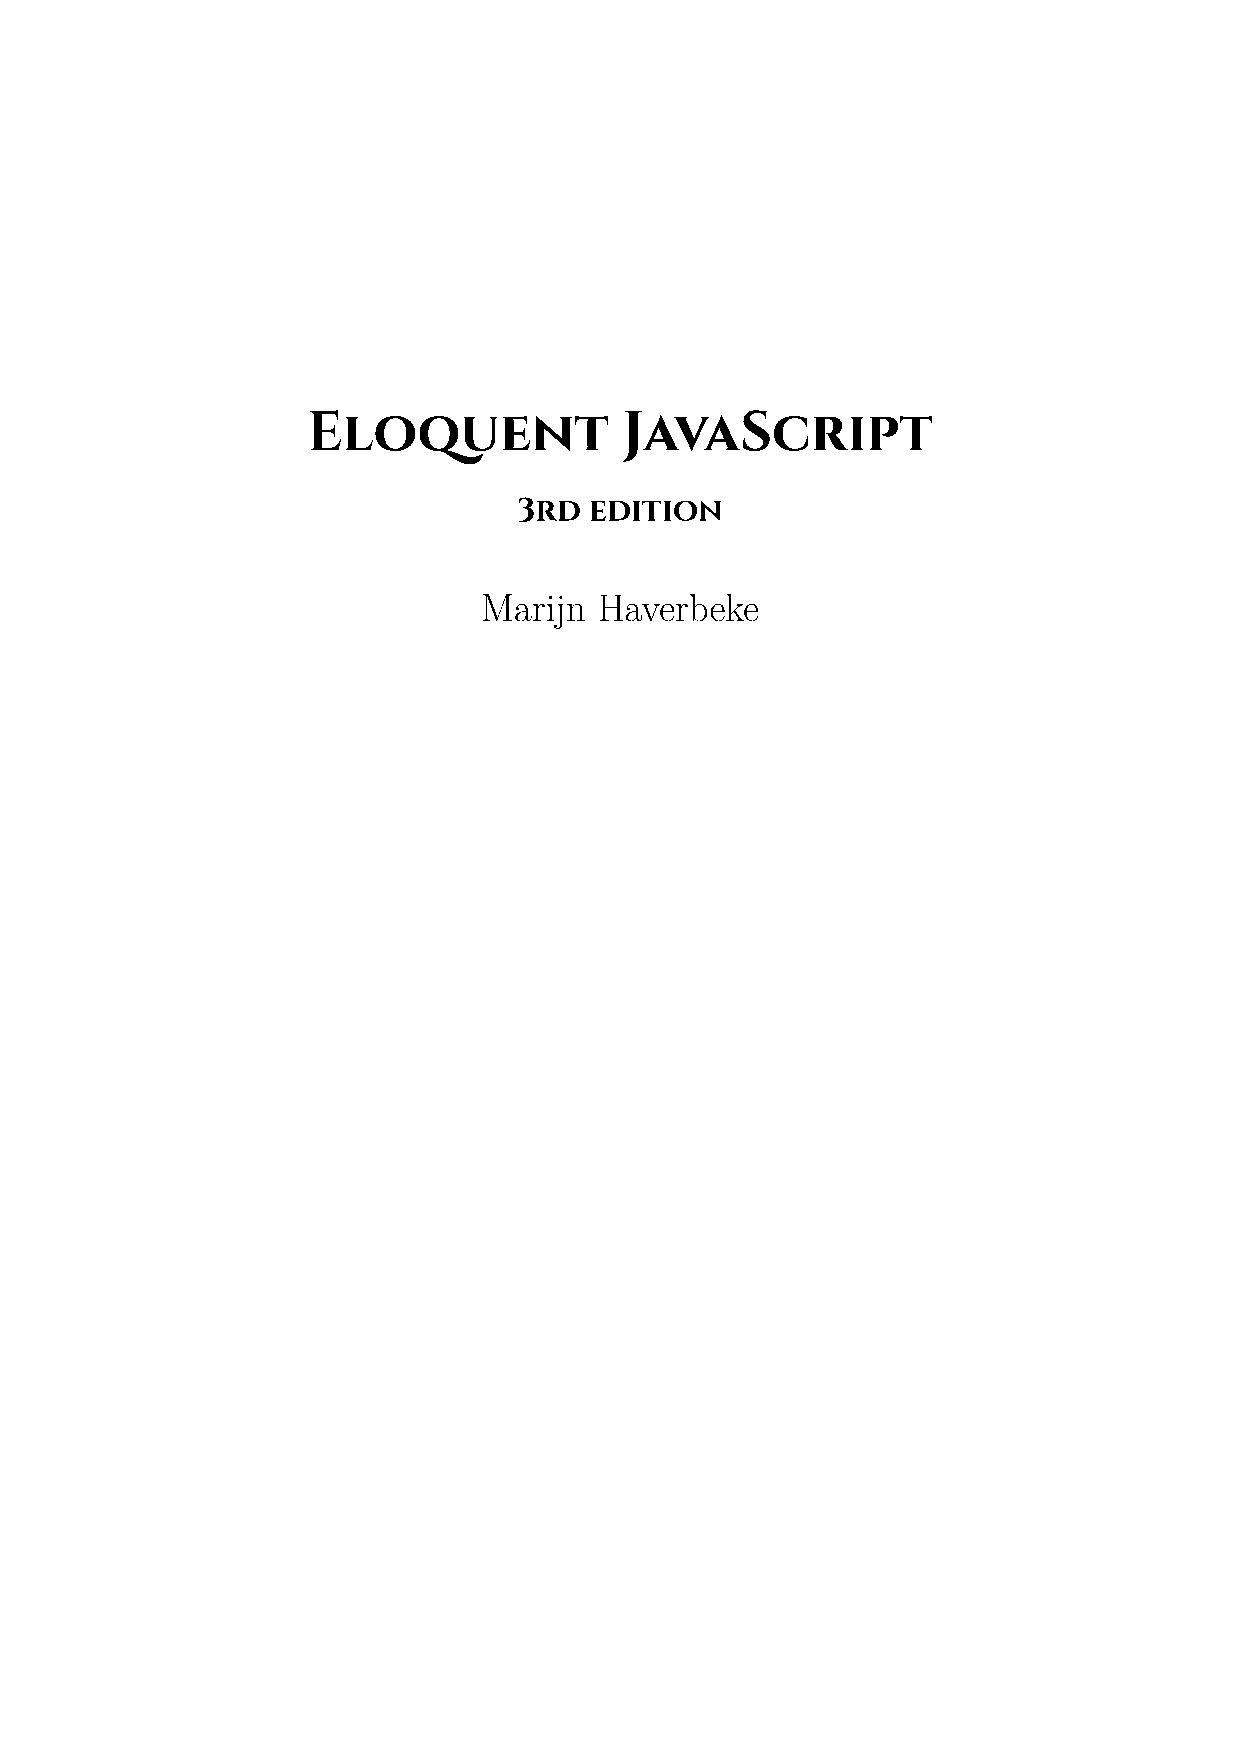author: (479, 590, 761, 632)
title: (306, 407, 935, 525)
